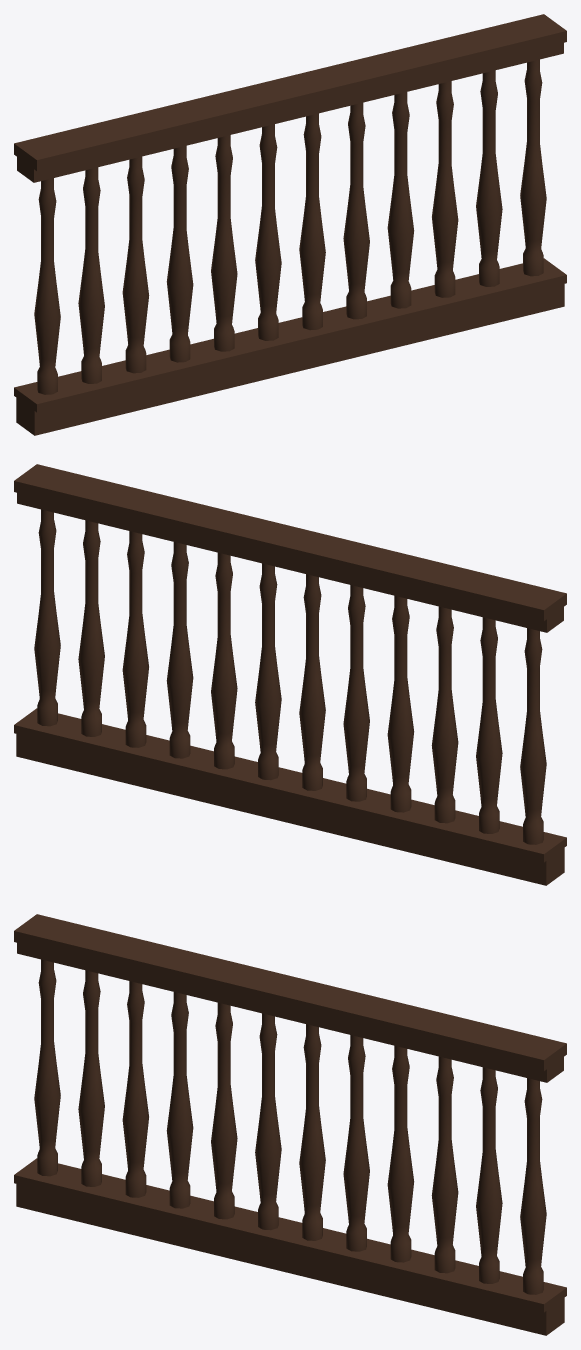
Rendered from balustrade_2m.glb.
3 views of the same model, one above another, from view 1: azimuth 30°, elevation 25°; view 2: azimuth 150°, elevation 25°; view 3: azimuth 330°, elevation 25° (orthographic).
Parts seen in each view (by area): view 1: balustrade_2m; view 2: balustrade_2m; view 3: balustrade_2m.
Boxes of the visible parts, left/top/right/bottom form: balustrade_2m: left=14, top=14, right=566, bottom=435; balustrade_2m: left=14, top=464, right=566, bottom=885; balustrade_2m: left=14, top=914, right=566, bottom=1335.
Size of the model in its own units: 2 by 1 by 0.15.
